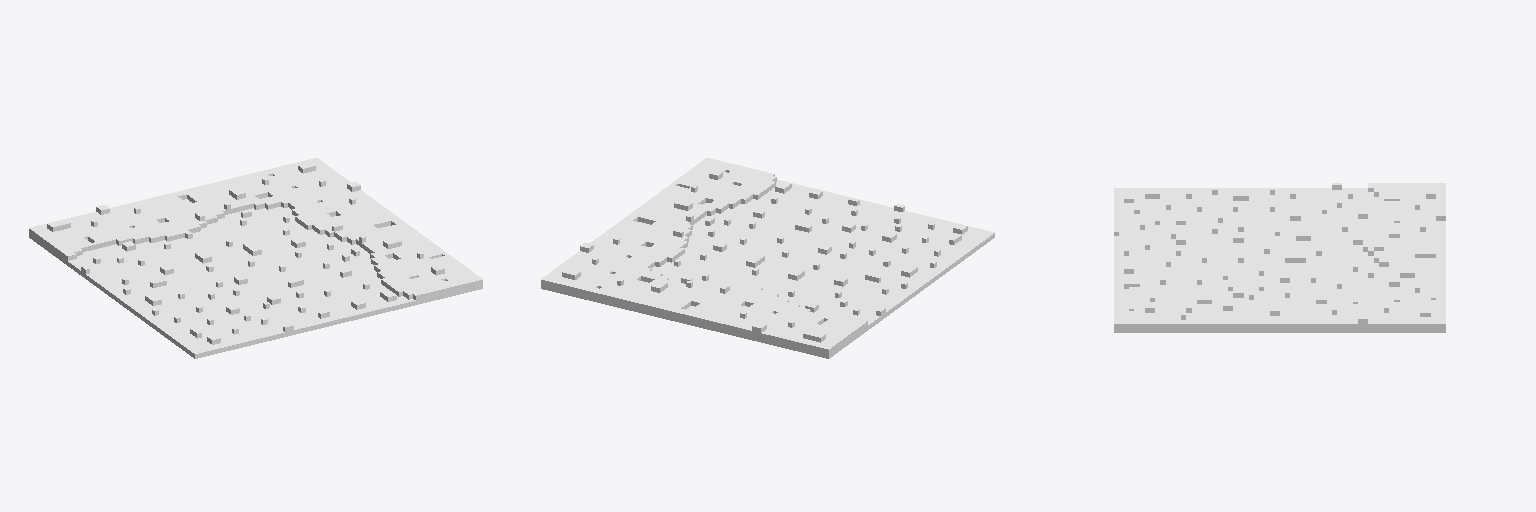
File: EarthPathTurn_2.obj
The picture shows the model from 3 angles: view 1: azimuth 30°, elevation 25°; view 2: azimuth 150°, elevation 25°; view 3: azimuth 270°, elevation 25°; orthographic projection.
Parts seen in each view (by area): view 1: EarthPathTurn_2.001; view 2: EarthPathTurn_2.001; view 3: EarthPathTurn_2.001.
Part boxes in pixels (x1,y1,x2,y2): EarthPathTurn_2.001: (29, 158, 482, 358); EarthPathTurn_2.001: (541, 158, 994, 358); EarthPathTurn_2.001: (1114, 183, 1445, 332).
Bounding box in the file's own units: 1 × 0.0469 × 1.